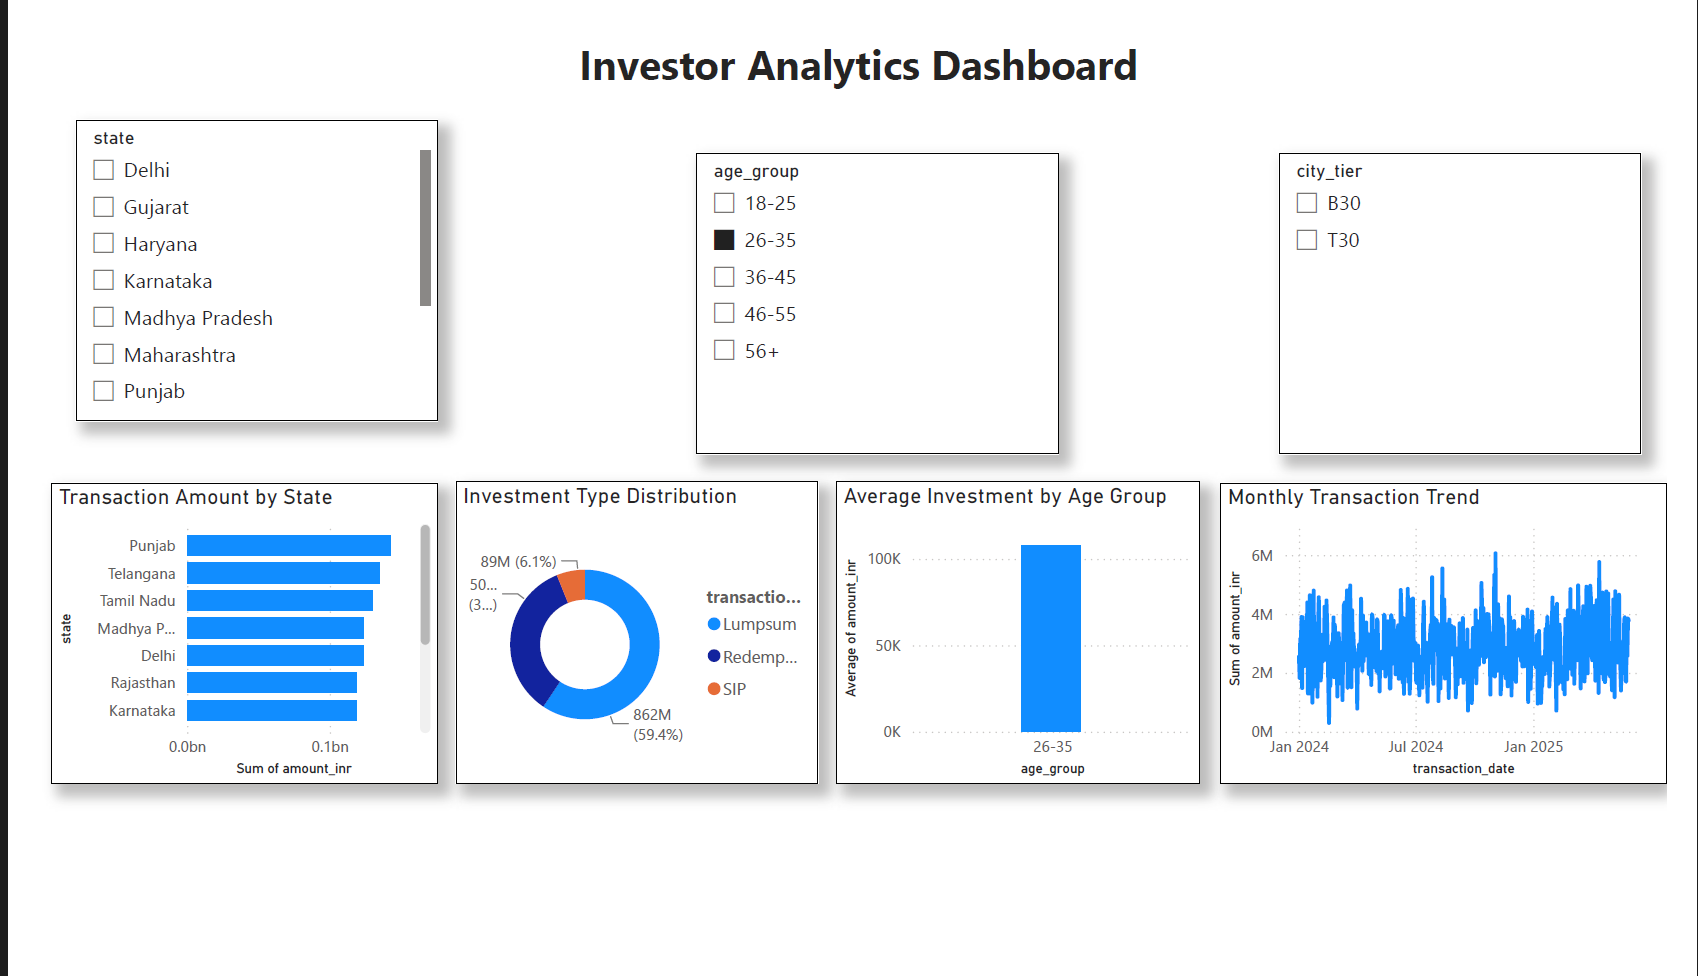

What the dashboard file says about the page in this screenshot:
{"tool":"powerbi","page":{"name":"Page 3","canvas":[1280,720],"ordinal":2},"visuals":[{"type":"textbox","box":[9.6,0,1270.7,279.9],"z":0},{"type":"slicer","fields":{"Values":["08_investor_transactions.state"]},"box":[29.3,70.9,284.9,237.2],"z":1000},{"type":"slicer","fields":{"Values":["08_investor_transactions.age_group"]},"box":[517.3,96.6,284.9,237.2],"z":2000},{"type":"slicer","fields":{"Values":["08_investor_transactions.city_tier"]},"box":[974.6,96.6,284.9,237.2],"z":3000},{"type":"clusteredBarChart","title":"Transaction Amount by State","fields":{"Category":["08_investor_transactions.state"],"Y":["Sum(08_investor_transactions.amount_inr)"]},"box":[9.8,355.8,304.5,237.2],"z":3001},{"type":"donutChart","title":"Investment Type Distribution","fields":{"Category":["08_investor_transactions.transaction_type"],"Y":["Sum(08_investor_transactions.amount_inr)"]},"box":[328,355.4,285.4,237.4],"z":3002},{"type":"clusteredColumnChart","title":"Average Investment by Age Group","fields":{"Category":["08_investor_transactions.age_group"],"Y":["Avg(08_investor_transactions.amount_inr)"]},"box":[627.1,355.4,285.4,237.4],"z":3003},{"type":"lineChart","title":"Monthly Transaction Trend","fields":{"Y":["Sum(08_investor_transactions.amount_inr)"],"Category":["08_investor_transactions.transaction_date"]},"box":[929,356,351,237],"z":3004}]}

Visuals, with their boxes in screenshot pixels (x1, y1, x2, y2), scaled from the page's 1280x720 canvas onto the 1698x976 screenshot:
textbox: [x1=13, y1=0, x2=1697, y2=379]
slicer - 08_investor_transactions.state: [x1=39, y1=96, x2=417, y2=418]
slicer - 08_investor_transactions.age_group: [x1=686, y1=131, x2=1064, y2=452]
slicer - 08_investor_transactions.city_tier: [x1=1293, y1=131, x2=1671, y2=452]
"Transaction Amount by State" clusteredBarChart: [x1=13, y1=482, x2=417, y2=804]
"Investment Type Distribution" donutChart: [x1=435, y1=482, x2=814, y2=804]
"Average Investment by Age Group" clusteredColumnChart: [x1=832, y1=482, x2=1210, y2=804]
"Monthly Transaction Trend" lineChart: [x1=1232, y1=483, x2=1697, y2=804]
